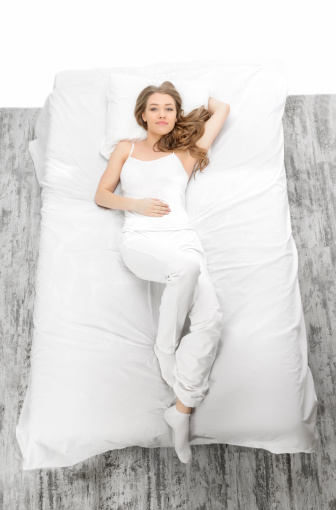deitado: (62, 72, 296, 452)
